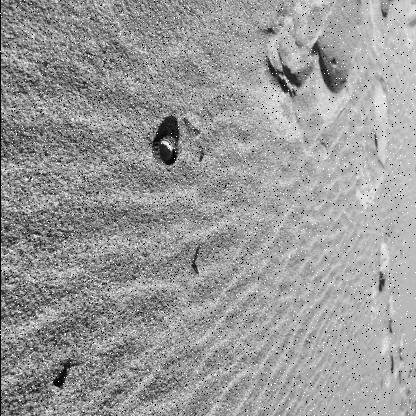metal: (152, 135, 178, 166)
